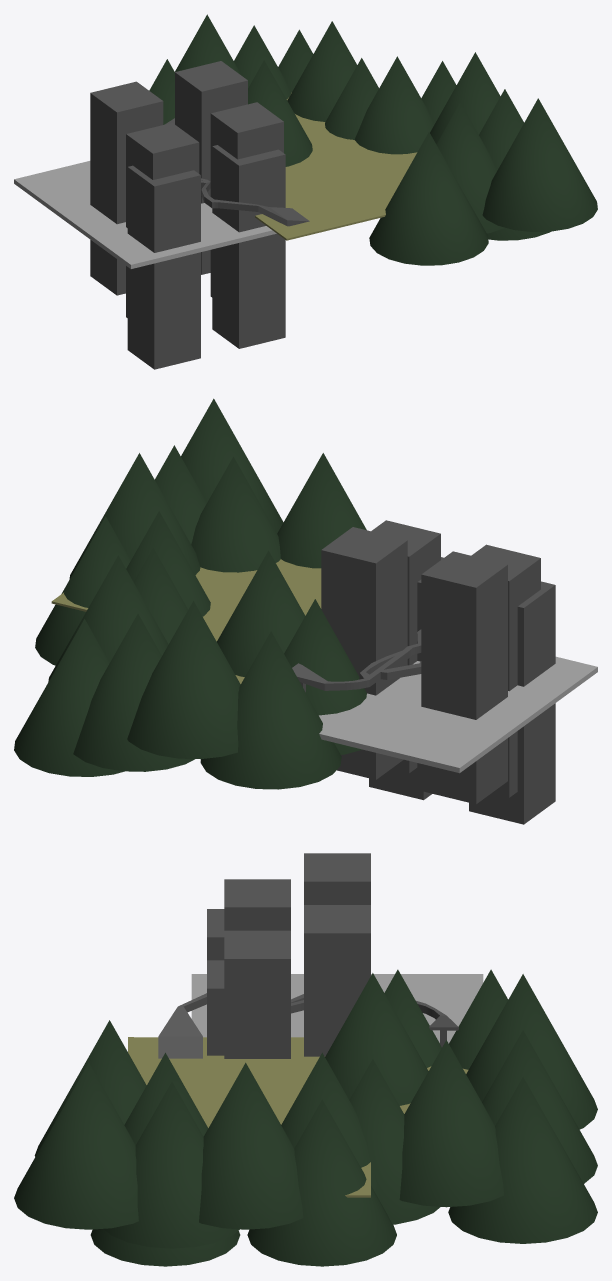
File: Track.fbx
3 renders of one model, top to bottom at view 1: azimuth 30°, elevation 25°; view 2: azimuth 150°, elevation 25°; view 3: azimuth 270°, elevation 25°, orthographic. The views are drawn at different scales.
Parts seen in each view (by area): view 1: pCube7, pCube6, pCube2, pCone13, pCone14, pCube8, pCube10, pCube4, pCone12, pCone3, pCone16, pCube5 (+12 smaller); view 2: pCube8, pCube10, pCube4, pCone7, pCone6, pCube7, pCone5, pCone4, pCone16, pCone1, pCone13, pCone8 (+12 smaller); view 3: pCone14, pCone5, pCone11, pCone10, pCone3, pCone9, pCube5, pCube4, pCube2, pCone1, pCone6, pCone2 (+13 smaller).
Part boxes in pixels (left/top/right/bottom): pCube7: left=127, top=165, right=200, bottom=369; pCube6: left=212, top=145, right=285, bottom=348; pCube2: left=255, top=92, right=417, bottom=240; pCone13: left=369, top=132, right=488, bottom=265; pCone14: left=482, top=98, right=597, bottom=231; pCube8: left=90, top=81, right=163, bottom=295; pCube10: left=14, top=161, right=276, bottom=268; pCube4: left=175, top=61, right=247, bottom=274; pCone12: left=354, top=56, right=434, bottom=154; pCone3: left=287, top=21, right=357, bottom=121; pCone16: left=436, top=102, right=504, bottom=233; pCube5: left=210, top=102, right=283, bottom=297; pCube8: left=421, top=551, right=507, bottom=804; pCube10: left=319, top=656, right=597, bottom=773; pCube4: left=321, top=527, right=407, bottom=779; pCone7: left=200, top=631, right=341, bottom=789; pCone6: left=127, top=601, right=240, bottom=759; pCube7: left=469, top=581, right=555, bottom=824; pCone5: left=14, top=619, right=124, bottom=776; pCone4: left=73, top=614, right=194, bottom=771; pCone16: left=191, top=456, right=280, bottom=572; pCone1: left=217, top=550, right=305, bottom=676; pCone13: left=277, top=453, right=366, bottom=568; pCone8: left=284, top=599, right=366, bottom=754; pCone14: left=14, top=1062, right=138, bottom=1229; pCone5: left=448, top=1077, right=597, bottom=1243; pCone11: left=247, top=1099, right=396, bottom=1266; pCone10: left=199, top=1062, right=303, bottom=1229; pCone3: left=399, top=1040, right=503, bottom=1207; pCone9: left=103, top=1081, right=239, bottom=1248; pCube5: left=224, top=930, right=290, bottom=1058; pCube4: left=304, top=905, right=370, bottom=1056; pCube2: left=128, top=1037, right=468, bottom=1197; pCone1: left=325, top=973, right=428, bottom=1105; pCone6: left=466, top=974, right=597, bottom=1129; pCone2: left=349, top=1059, right=440, bottom=1224.
Bounding box in the file's own units: 100 × 52.28 × 97.14.
